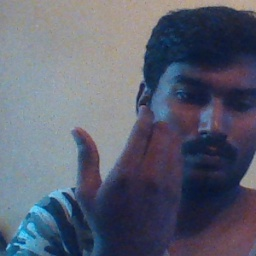U: (65, 103, 183, 228)
